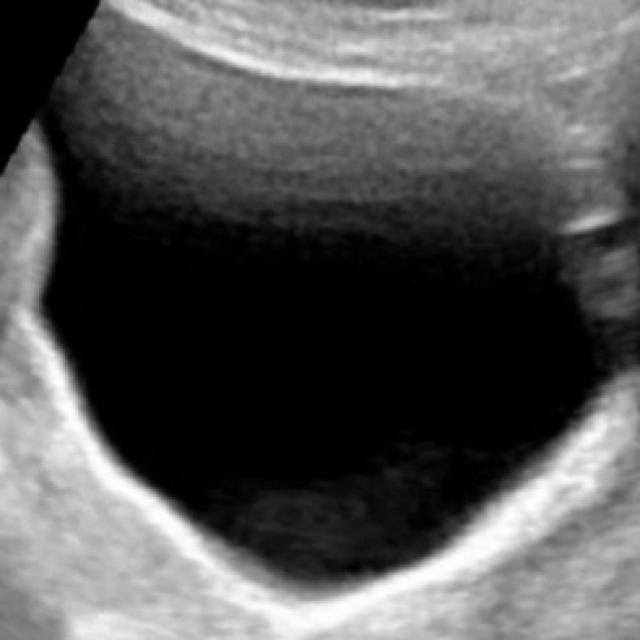bladder: (16, 2, 626, 630)
